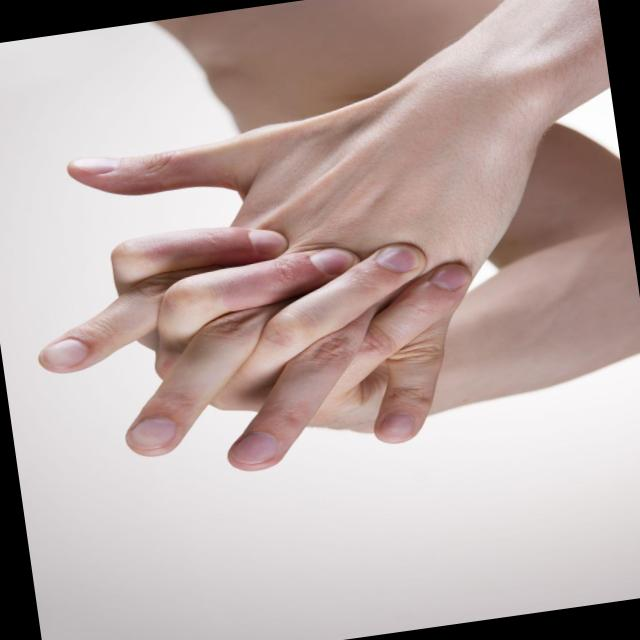Nail: (126, 416, 176, 448), (40, 337, 88, 367), (231, 432, 278, 462), (310, 247, 357, 273), (376, 244, 420, 271), (431, 263, 471, 289), (249, 229, 288, 253), (380, 412, 415, 437), (72, 156, 121, 173)
